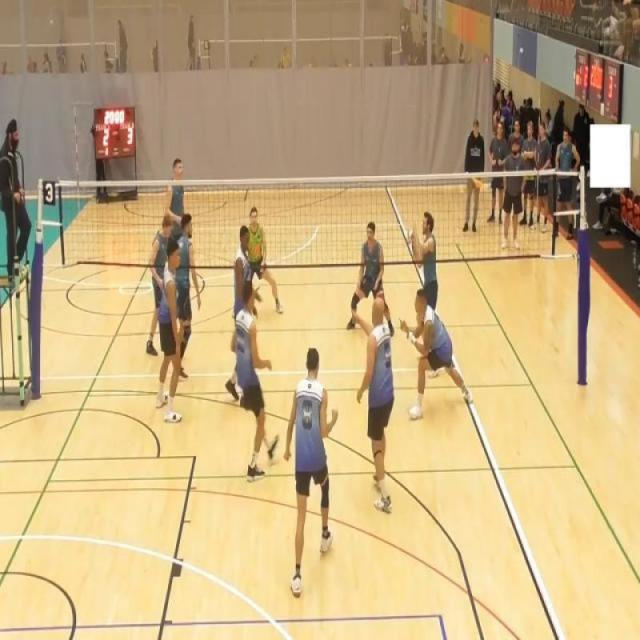volleyball: (407, 228, 419, 244), (50, 18, 54, 26)
